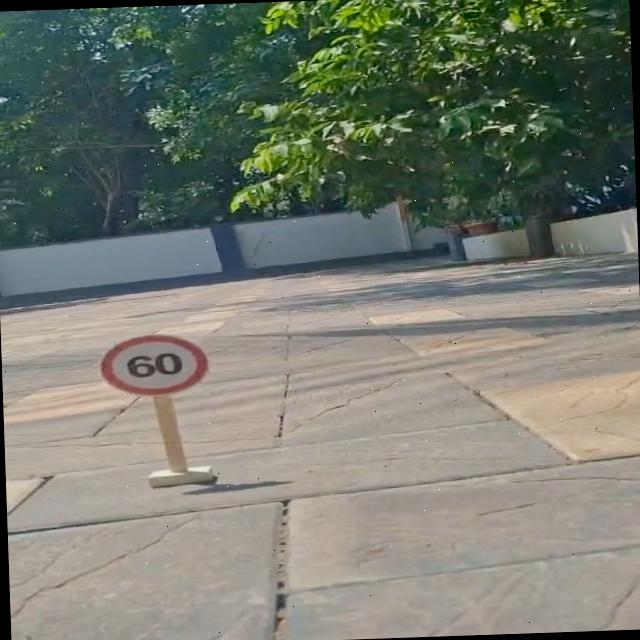Speed60: (82, 326, 228, 406)
